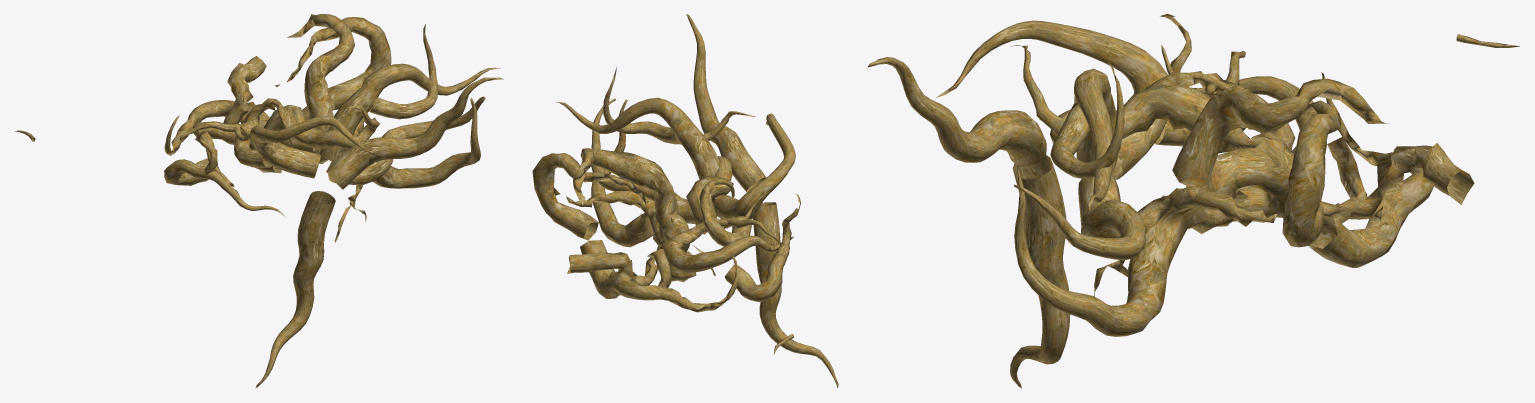
The model's file is NaveeBioSkib17_CleanUp_x02_Roedder4_glb00.glb.
The picture shows the model from 3 angles, left to right: view 1: azimuth 30°, elevation 25°; view 2: azimuth 150°, elevation 25°; view 3: azimuth 270°, elevation 25°; orthographic projection. The views are drawn at different scales.
Parts seen in each view (by area): view 1: Grene; view 2: Grene; view 3: Grene.
Part boxes in pixels (<box>): Grene: <box>14,14,503,388</box>; Grene: <box>532,14,838,388</box>; Grene: <box>867,14,1519,388</box>.
Size of the model in its own units: 0.8344 by 0.6653 by 0.811.
Materials: 1 (1 with a texture image).
